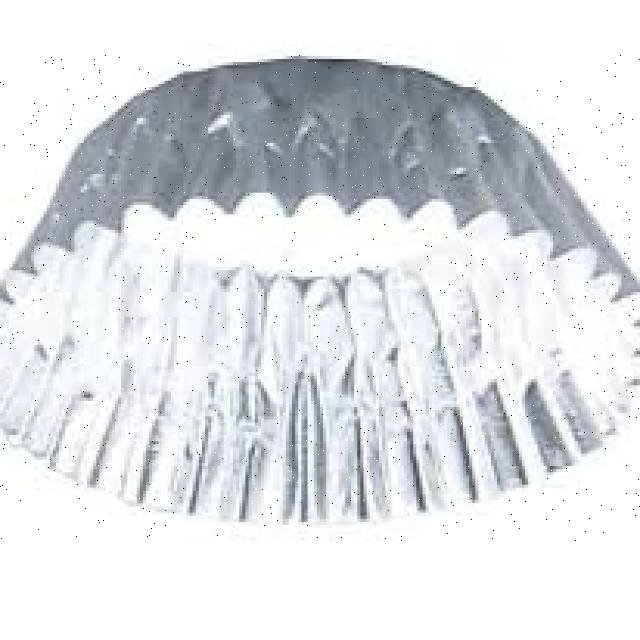metal: (0, 53, 640, 540)
